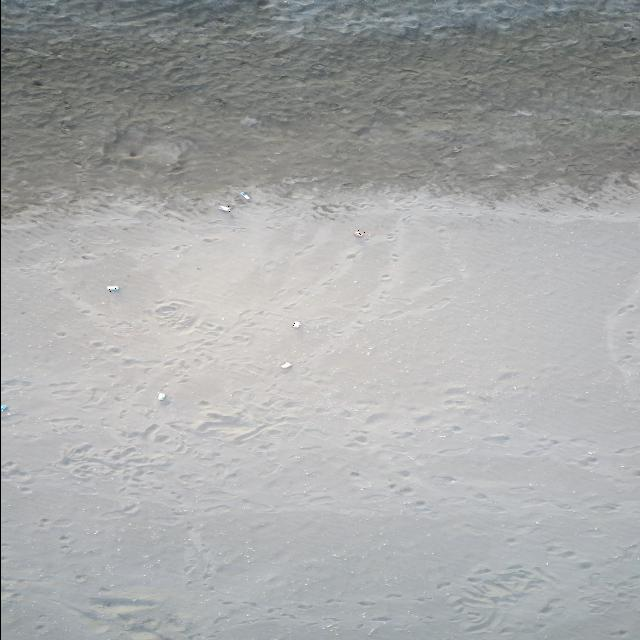Garbage: (107, 284, 119, 292), (280, 360, 292, 368), (218, 204, 231, 211), (353, 228, 364, 236), (156, 392, 166, 400), (240, 191, 249, 199), (0, 404, 7, 412), (292, 320, 300, 327)
